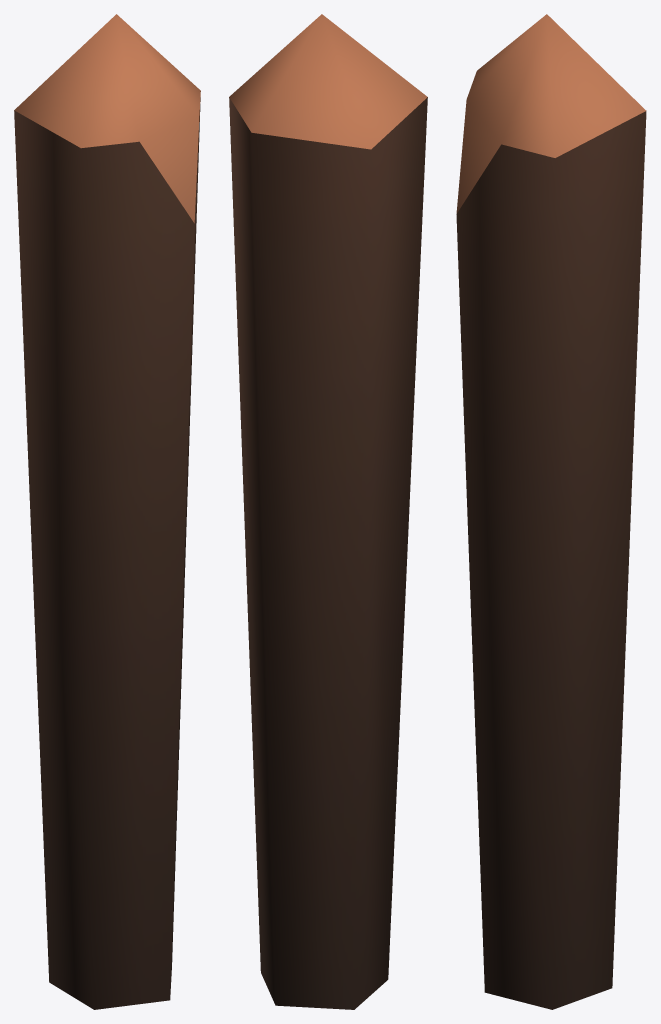
File: Fence_1A_Part_2.fbx
The picture shows the model from 3 angles, left to right: view 1: azimuth 30°, elevation 25°; view 2: azimuth 150°, elevation 25°; view 3: azimuth 270°, elevation 25°; orthographic projection.
Parts seen in each view (by area): view 1: Fence_1A_Part_2; view 2: Fence_1A_Part_2; view 3: Fence_1A_Part_2.
Part boxes in pixels (x1,y1,x2,y2): Fence_1A_Part_2: (14,14,200,1009); Fence_1A_Part_2: (229,14,427,1009); Fence_1A_Part_2: (456,14,646,1009).
Size of the model in its own units: 22.68 by 128 by 22.76.
